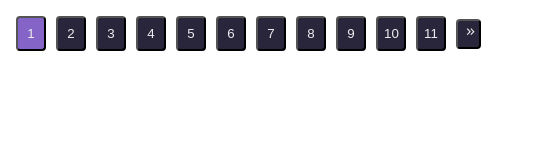
Scenario: <Paginator /> › should skip pages
Click the button with test id "skipright": x=469, y=34 [456, 19, 481, 49]
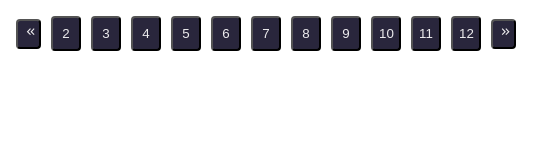
expect the button "12" is shown: met, box [451, 16, 481, 51]
Click the button with test id "skipleft": x=29, y=34 [16, 19, 41, 49]
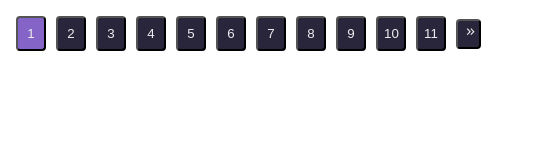
expect the button "1" is shown: met, box [16, 16, 46, 51]
